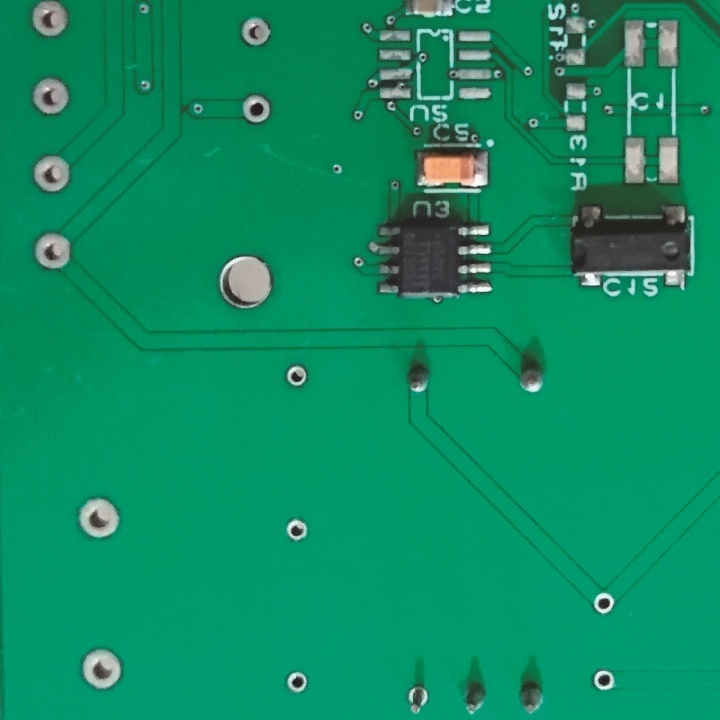F: (76, 494, 123, 542), (27, 75, 73, 120), (79, 647, 125, 692), (32, 229, 73, 275), (30, 1, 71, 43), (30, 154, 72, 195), (238, 13, 274, 49), (239, 92, 273, 125), (401, 680, 432, 716), (283, 515, 310, 544), (590, 591, 619, 618), (284, 363, 310, 391), (285, 670, 310, 698), (590, 667, 618, 691)
